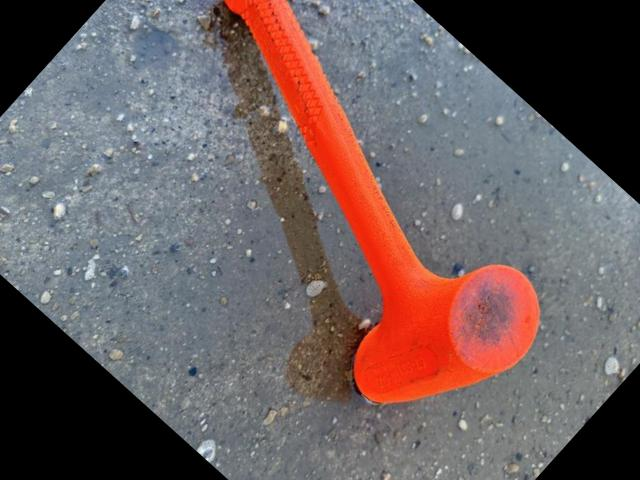hammer: (70, 0, 614, 458)
